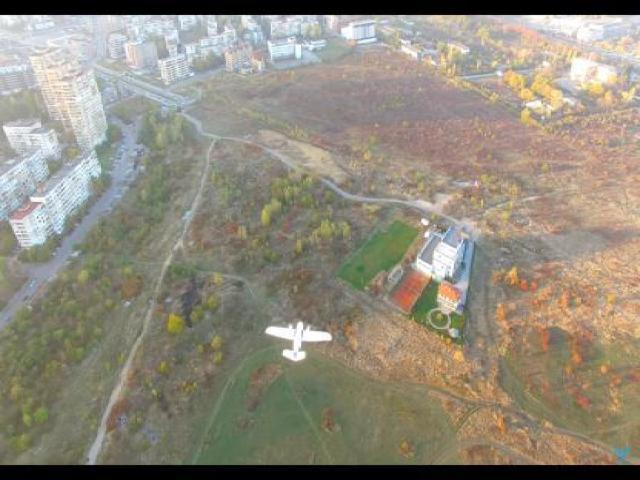uav: (258, 305, 339, 369)
